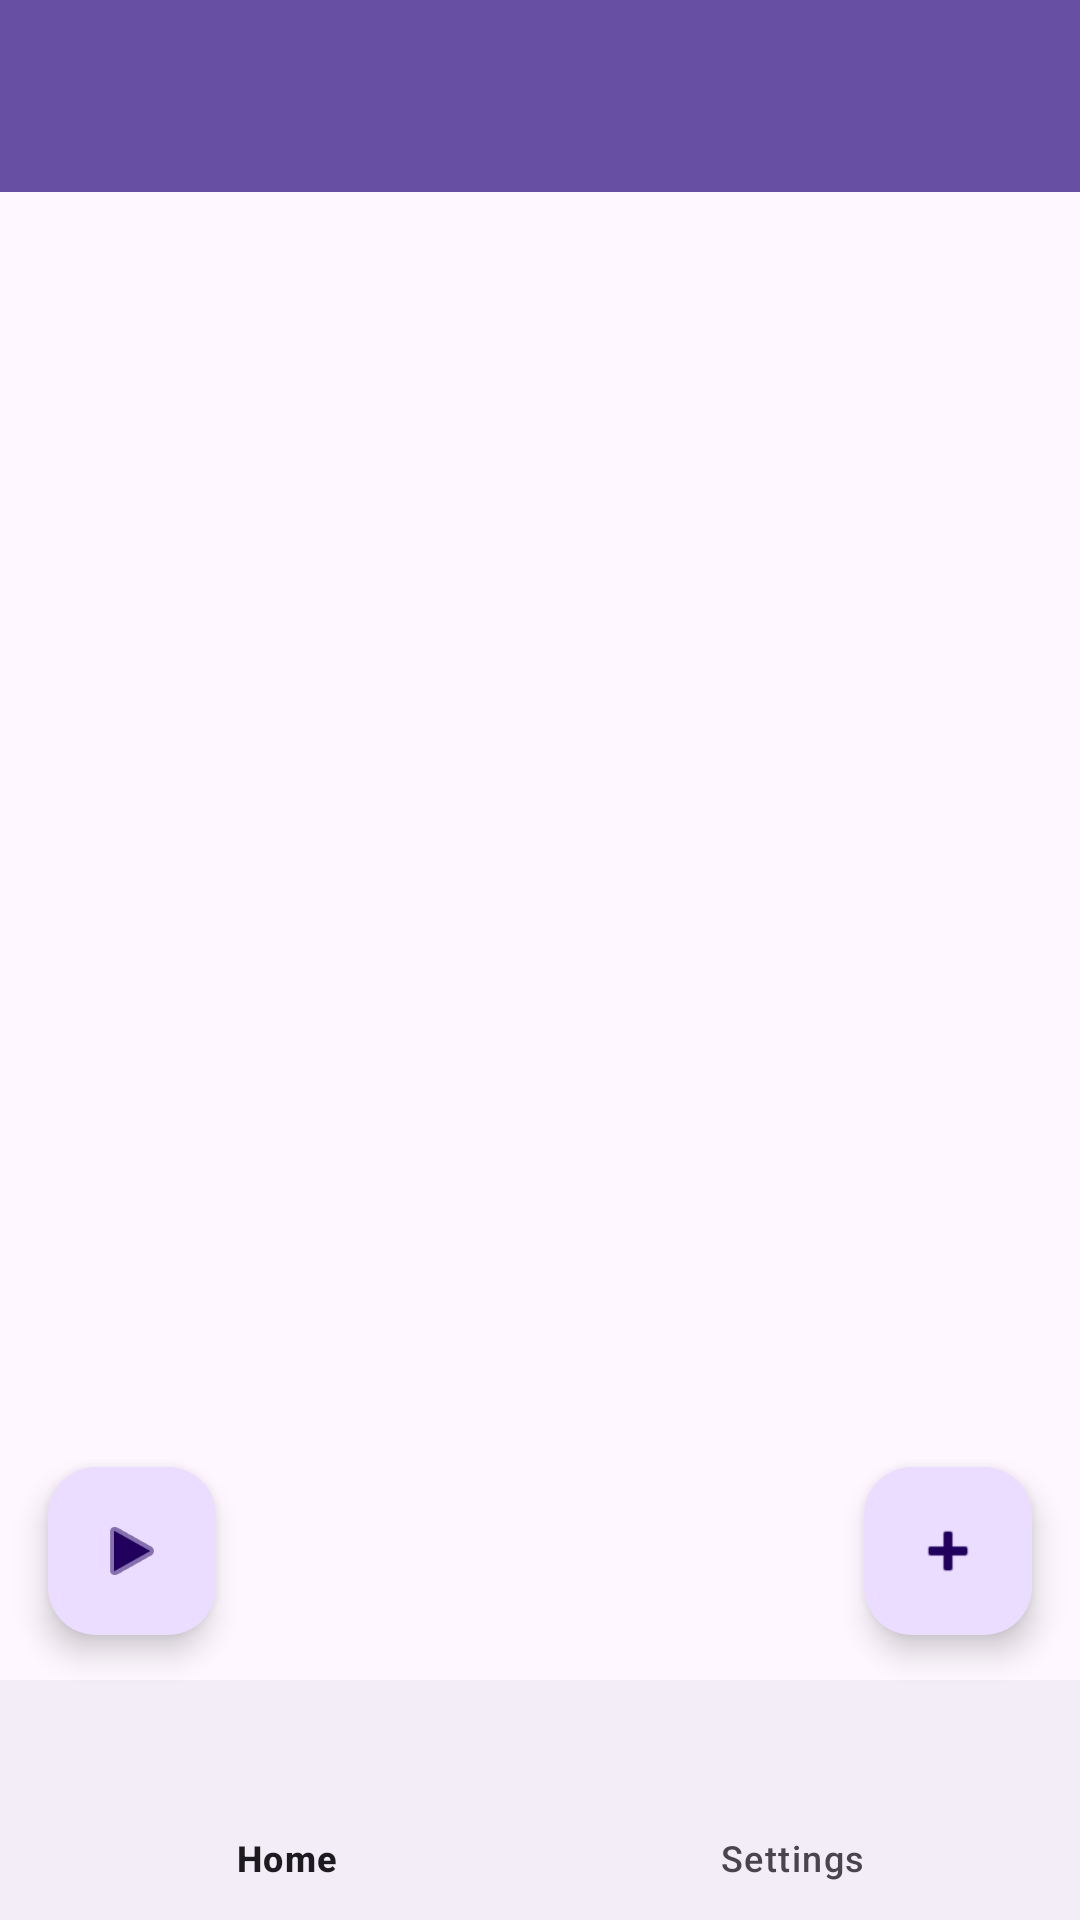

Icon click points for this 1080w x 1920h phone screenshot, format [x,y]:
Add a new card: [948,1551]
Start studying: [132,1551]
